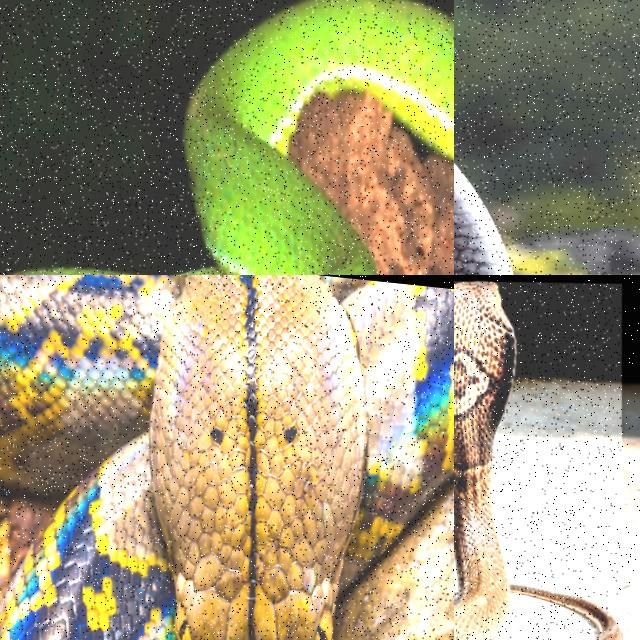Malayopython reticulatus: (0, 275, 453, 639)
Naja kaouthia: (454, 282, 620, 639)
Ophiophagus hannah: (454, 166, 511, 274)
Trimeresurus macrops: (185, 0, 453, 274)
snake: (0, 275, 453, 639), (185, 0, 453, 274), (454, 282, 620, 639), (454, 166, 511, 274)
